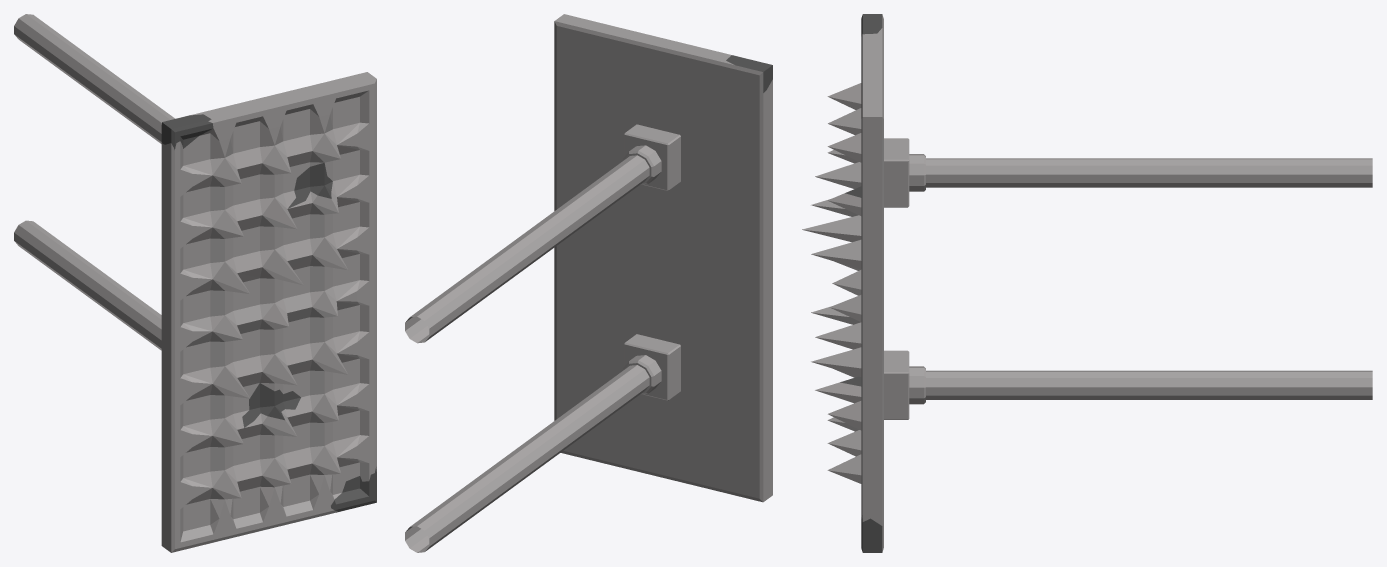
Rendered from MEDMetalSpikeTrapWall.fbx.
3 views of the same model, side by side, from view 1: azimuth 30°, elevation 25°; view 2: azimuth 150°, elevation 25°; view 3: azimuth 270°, elevation 25° (orthographic). The views are drawn at different scales.
Parts seen in each view (by area): view 1: MEDMetalSpikeTrapWall; view 2: MEDMetalSpikeTrapWall; view 3: MEDMetalSpikeTrapWall.
Boxes of the visible parts, bbox=[...] form: MEDMetalSpikeTrapWall: bbox=[14, 14, 376, 552]; MEDMetalSpikeTrapWall: bbox=[405, 14, 772, 552]; MEDMetalSpikeTrapWall: bbox=[802, 14, 1372, 552].
Size of the model in its own units: 115 by 226 by 268.
